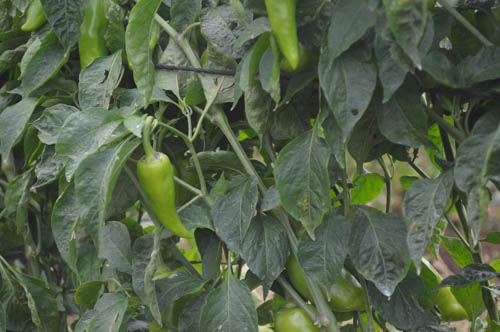ChiliPepper: (142, 156, 197, 243), (287, 257, 364, 310), (268, 6, 306, 69), (77, 5, 110, 71)
